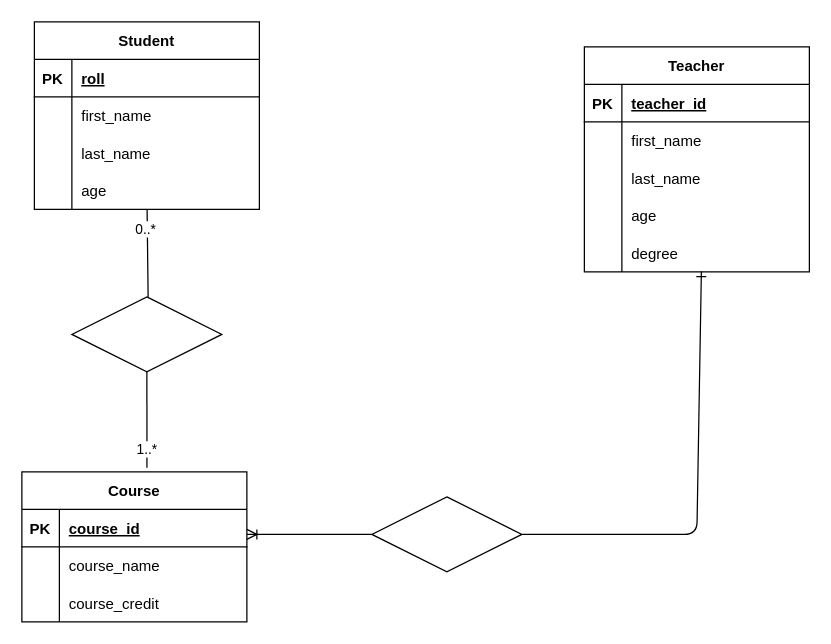
Some shapes in this 831 by 644 pixel diagram are drawn without their labels. Here are the shapes that lost their labels. From the top down, the centre of each, then its label:
At pixel 146 334: "Enrollment".
At pixel 446 534: "Course taking".
